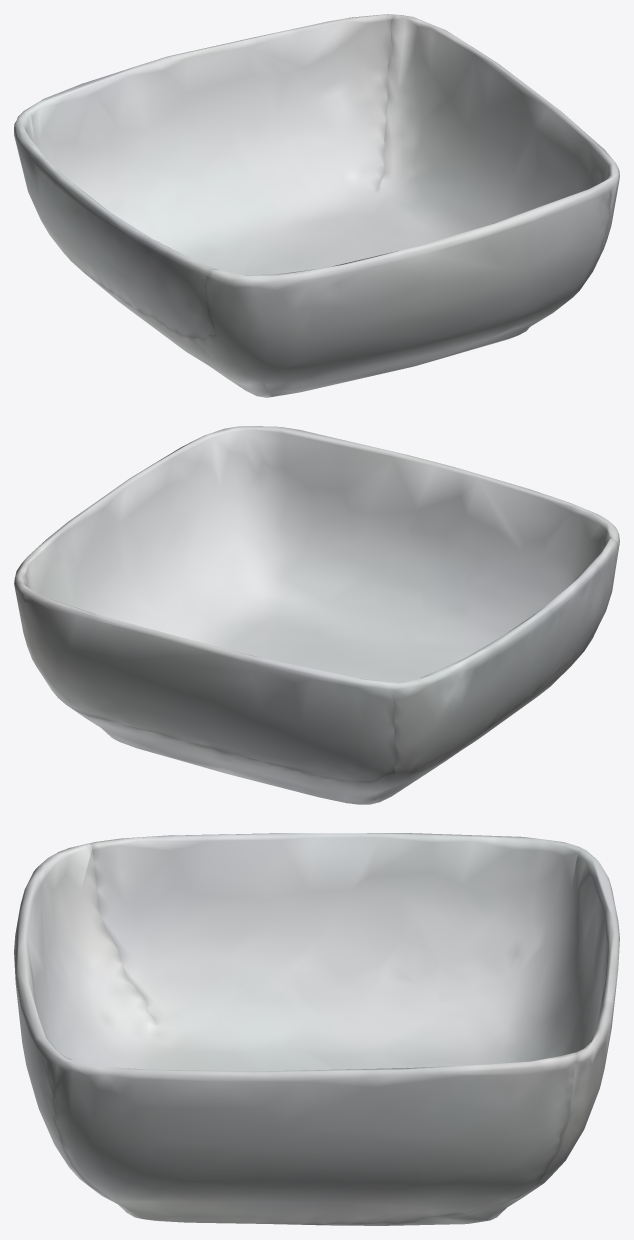
File: Neat_Solutions_Character_Bib_2_pack-medium.glb
3 renders of one model, top to bottom at view 1: azimuth 30°, elevation 25°; view 2: azimuth 150°, elevation 25°; view 3: azimuth 270°, elevation 25°, orthographic. The views are drawn at different scales.
Visible parts, largest first — view 1: Neat_Solutions_Character_Bib_2_pack; view 2: Neat_Solutions_Character_Bib_2_pack; view 3: Neat_Solutions_Character_Bib_2_pack.
Boxes of the visible parts, x1,y1,x2,y2 form: Neat_Solutions_Character_Bib_2_pack: (14,14,619,397); Neat_Solutions_Character_Bib_2_pack: (14,426,619,804); Neat_Solutions_Character_Bib_2_pack: (14,833,619,1225).
Bounding box in the file's own units: 0.2052 × 0.0765 × 0.2048.
Materials: 1 (1 with a texture image).
